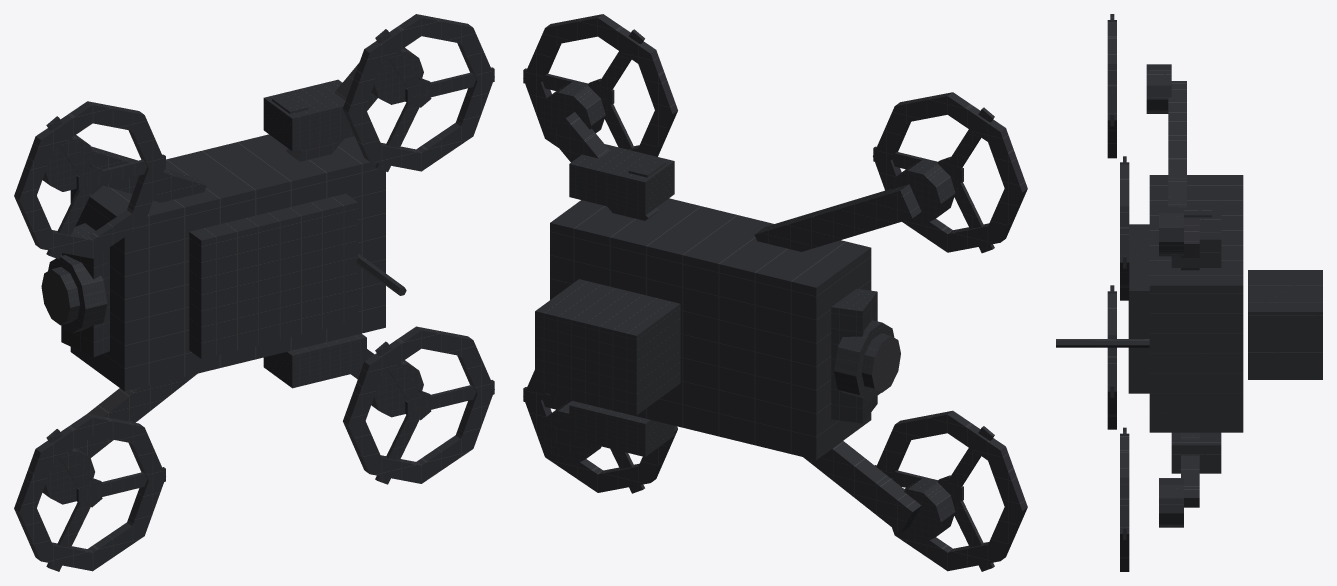
Rendered from drone_variant_03_jammer.obj.
3 renders of one model, left to right at view 1: azimuth 30°, elevation 25°; view 2: azimuth 150°, elevation 25°; view 3: azimuth 270°, elevation 25°, orthographic. The views are drawn at different scales.
Bounding box in the file's own units: 0.8714 × 0.8019 × 0.4788.
Materials: 1 (1 with a texture image).
